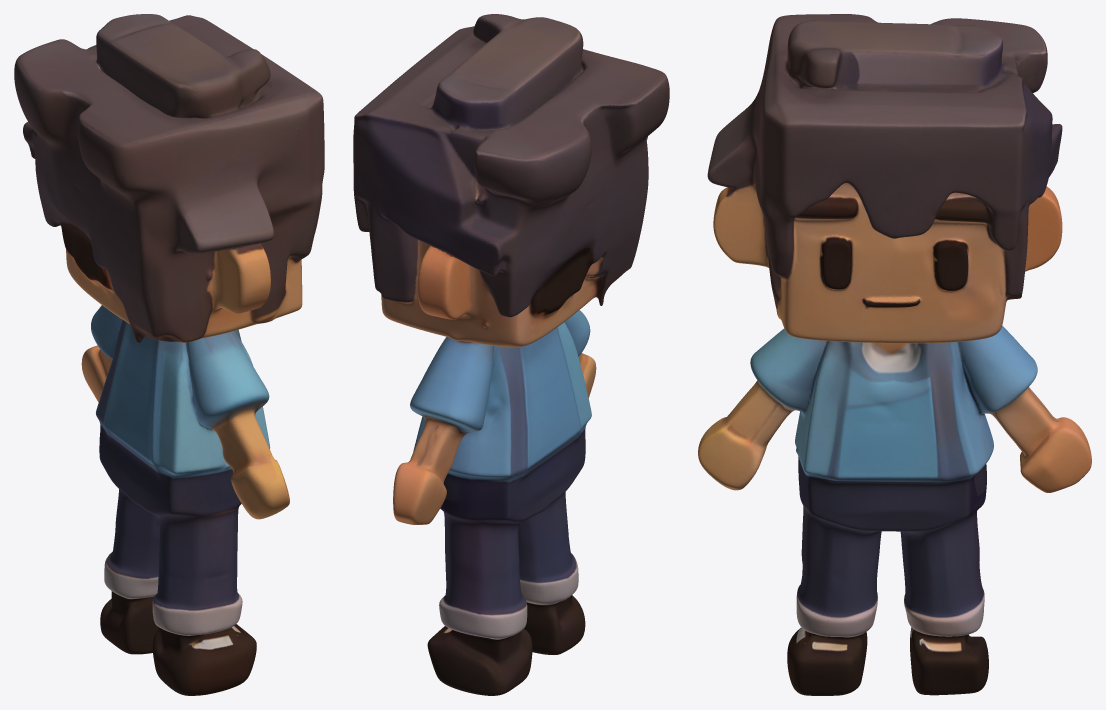
The model's file is field.glb.
The picture shows the model from 3 angles, left to right: view 1: azimuth 30°, elevation 25°; view 2: azimuth 150°, elevation 25°; view 3: azimuth 270°, elevation 25°; orthographic projection. The views are drawn at different scales.
Visible parts, largest first — view 1: tripo_node_bc8b018a-66ab-4fd7-9af2-09a48bfe5b18; view 2: tripo_node_bc8b018a-66ab-4fd7-9af2-09a48bfe5b18; view 3: tripo_node_bc8b018a-66ab-4fd7-9af2-09a48bfe5b18.
Boxes of the visible parts, x1=… form: tripo_node_bc8b018a-66ab-4fd7-9af2-09a48bfe5b18: x1=14, y1=14, x2=324, y2=695; tripo_node_bc8b018a-66ab-4fd7-9af2-09a48bfe5b18: x1=353, y1=14, x2=669, y2=695; tripo_node_bc8b018a-66ab-4fd7-9af2-09a48bfe5b18: x1=698, y1=14, x2=1091, y2=695.
Bounding box in the file's own units: 0.3634 × 1 × 0.5458.
1 material, 1 textured.
